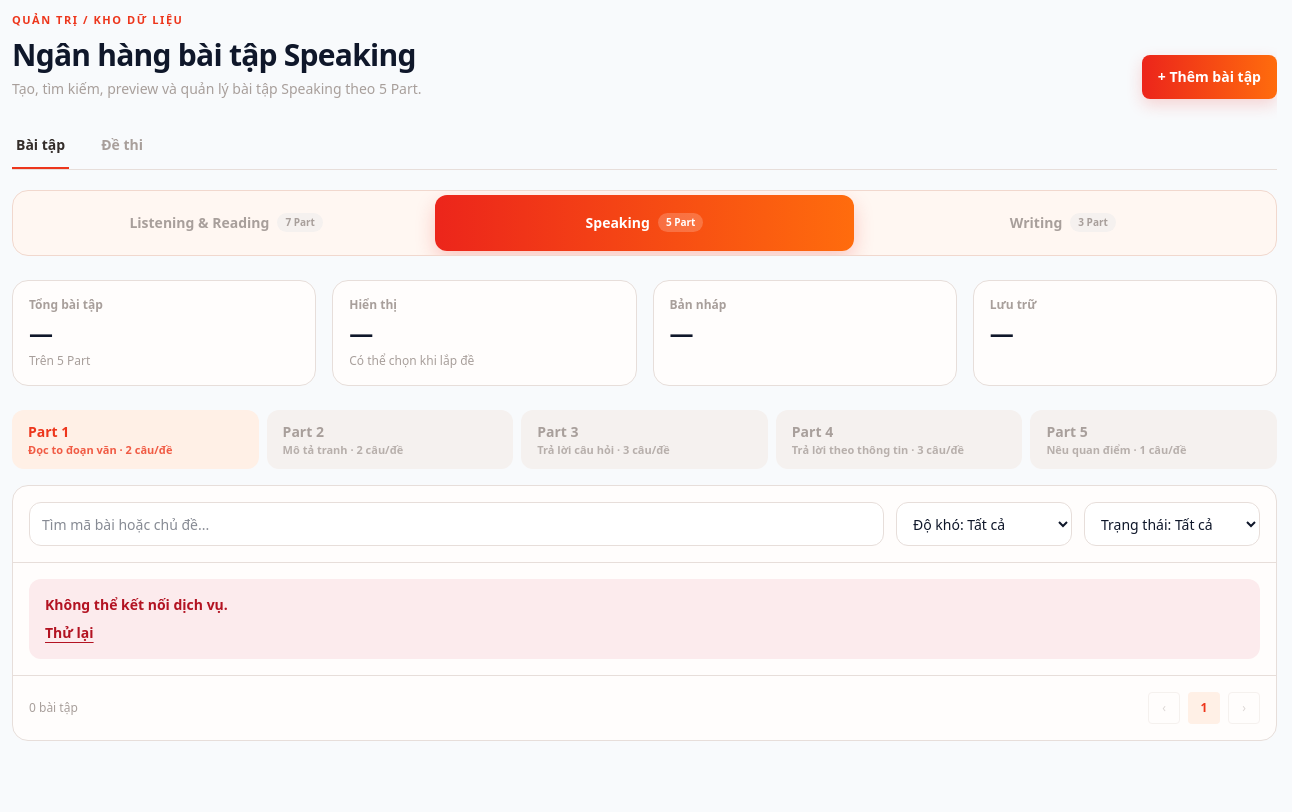
Test: AdminSpeakingContentPage › shows a retryable error when the backend is unavailable
expect the message shows "Không thể kết nối dịch vụ.": met, box [45,595,228,614]
Click the button "Thử lại": (69, 633) [45,623,94,643]
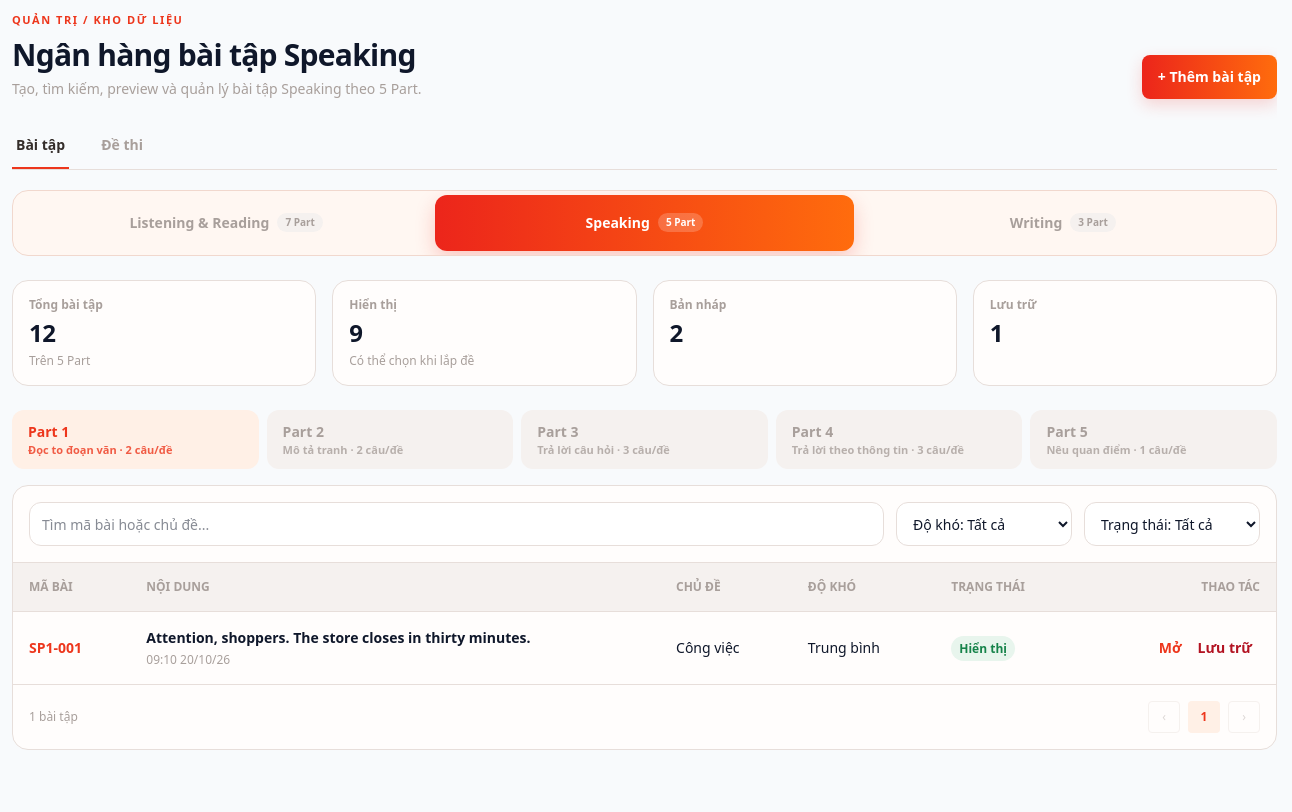
expect the text "SP1-001" is shown: met, box [13,612,130,684]
